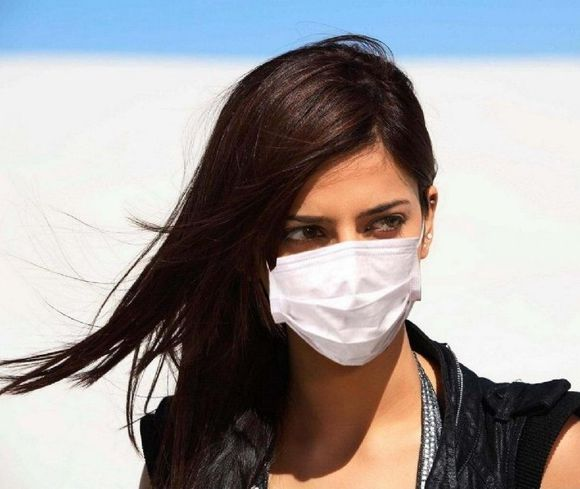face_mask: (262, 145, 423, 349)
